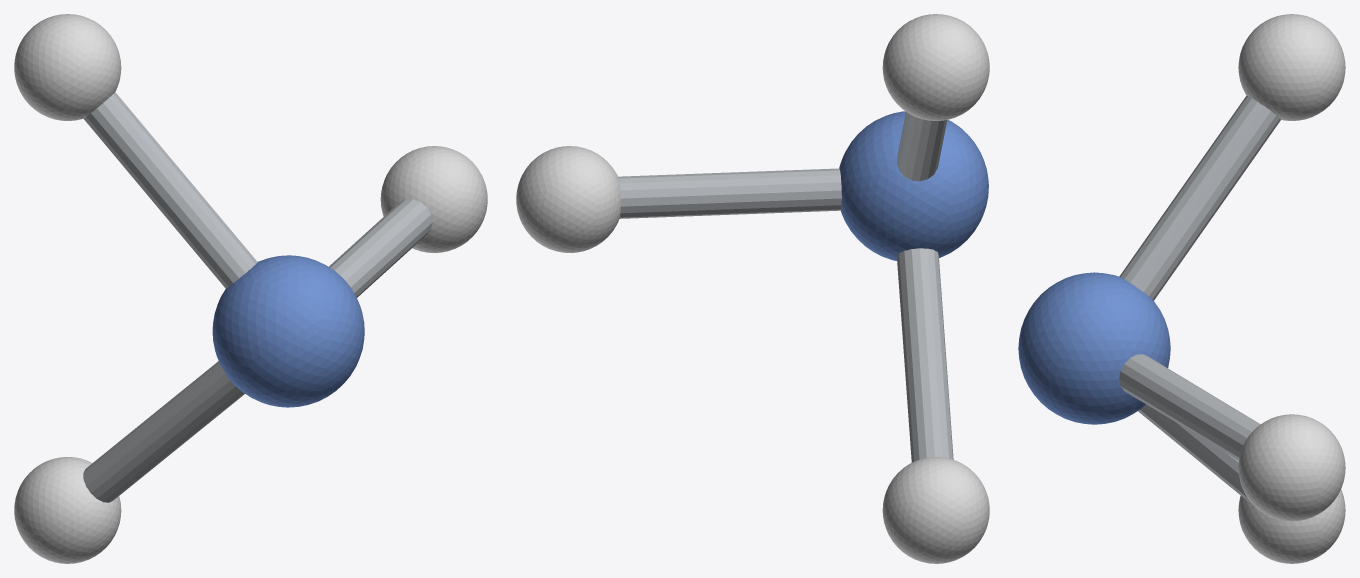
Rendered from amonia_NH3.glb.
3 views of the same model, side by side, from view 1: azimuth 30°, elevation 25°; view 2: azimuth 150°, elevation 25°; view 3: azimuth 270°, elevation 25° (orthographic).
Parts seen in each view (by area): view 1: N_0, bond_0_2_0, H_2, H_3, bond_0_3_0, H_1, bond_0_1_0; view 2: N_0, bond_0_1_0, H_3, H_2, H_1, bond_0_3_0, bond_0_2_0; view 3: N_0, bond_0_2_0, H_1, H_2, bond_0_1_0, H_3, bond_0_3_0.
Boxes of the visible parts, box(x1,y1,x2,y2) form: N_0: box(212, 255, 364, 407); bond_0_2_0: box(83, 92, 257, 288); H_2: box(14, 14, 121, 120); H_3: box(14, 457, 121, 563); bond_0_3_0: box(83, 361, 244, 502); H_1: box(380, 146, 487, 252); bond_0_1_0: box(329, 199, 432, 297); N_0: box(839, 111, 988, 260); bond_0_1_0: box(618, 168, 841, 218); H_3: box(882, 457, 989, 563); H_2: box(882, 14, 989, 120); H_1: box(516, 146, 620, 252); bond_0_3_0: box(896, 248, 953, 462); bond_0_2_0: box(897, 112, 947, 181); N_0: box(1018, 272, 1170, 424); bond_0_2_0: box(1119, 95, 1280, 300); H_1: box(1238, 414, 1345, 521); H_2: box(1238, 14, 1345, 120); bond_0_1_0: box(1119, 354, 1260, 459); H_3: box(1238, 489, 1345, 563); bond_0_3_0: box(1138, 404, 1252, 504).
Size of the model in its own units: 1.88 by 2.11 by 1.16.
